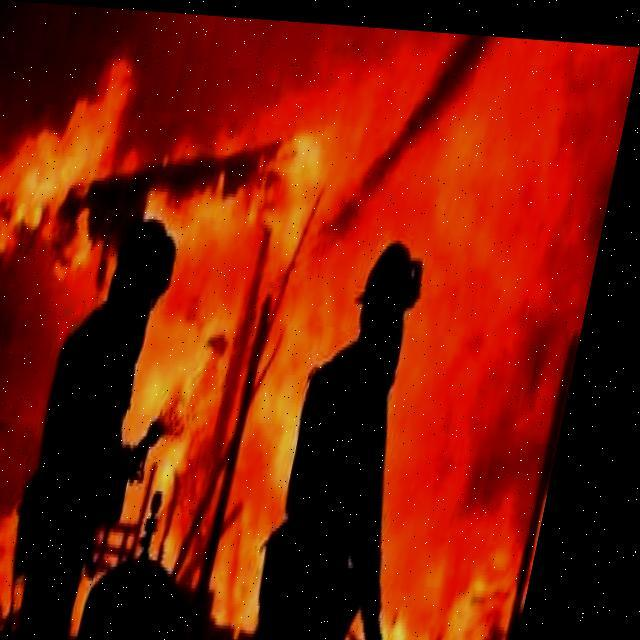Fire: (82, 129, 366, 622), (372, 475, 552, 639)
